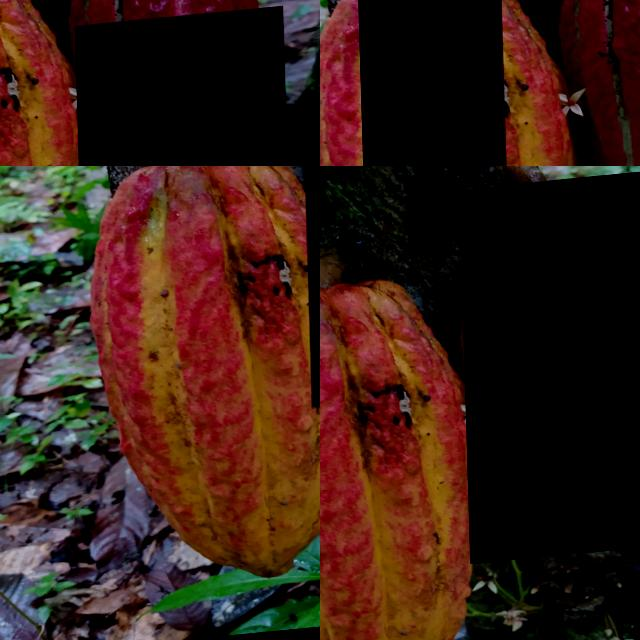Monilia: (73, 17, 289, 166), (87, 283, 217, 461)
Sana: (458, 182, 640, 571), (320, 276, 481, 640), (356, 0, 504, 166)
